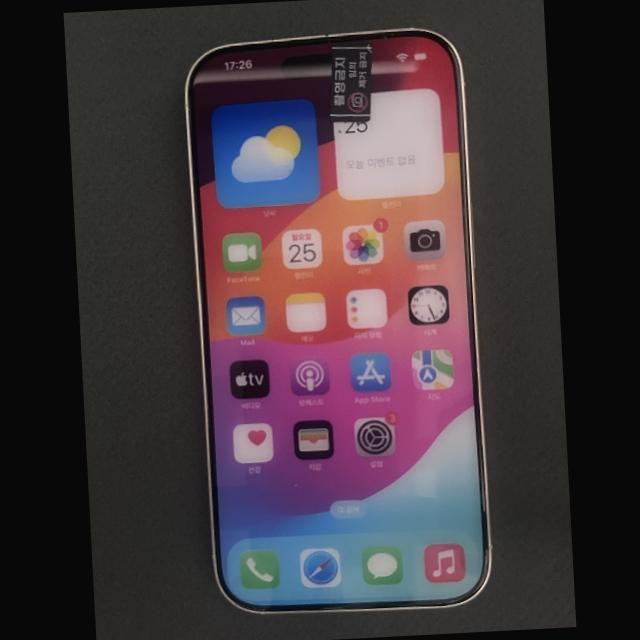phone: (184, 27, 492, 615)
sticker: (330, 42, 373, 122)
